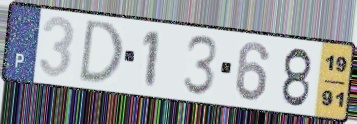1: (140, 30, 162, 90)
3: (37, 15, 80, 82), (182, 34, 220, 98)
6: (232, 40, 272, 103)
8: (281, 46, 313, 108)
D: (77, 17, 126, 85)
